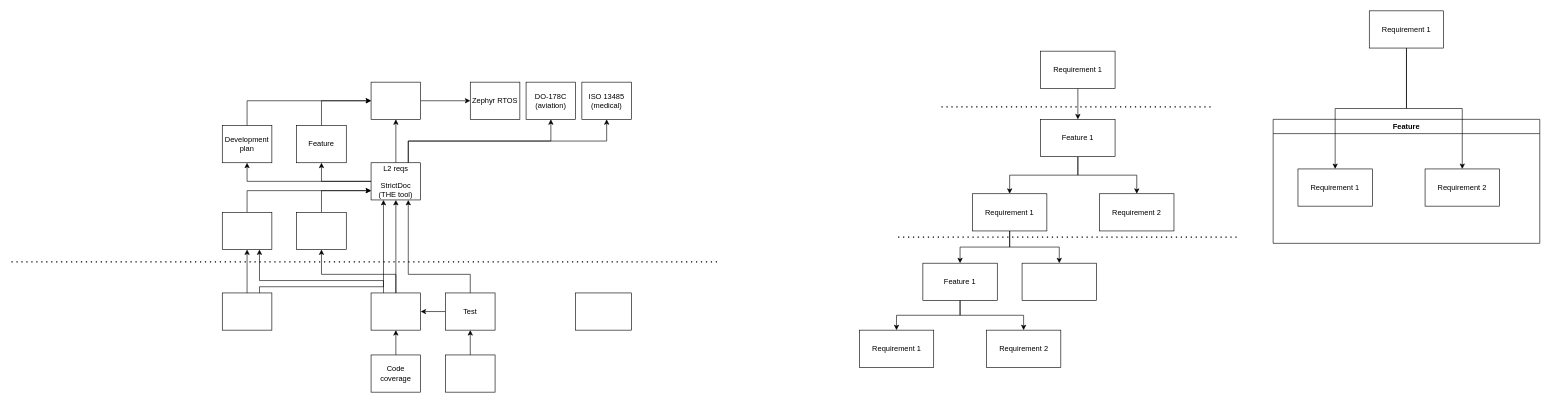
The diagram is 1551 pixels wide and 403 high, and some of its shapes have lost their labels. Each missing label, with the box of its shape:
Code: (370, 292, 421, 330)
Design: (296, 212, 346, 250)
Development guide: (222, 212, 272, 250)
Development scripts, configs, libraries: (222, 292, 272, 330)
Feature 2: (1021, 263, 1096, 300)
L1 reqs (A tool): (370, 82, 421, 119)
Project statistics (counts all links): (575, 292, 631, 330)
Test result: (445, 354, 495, 392)
